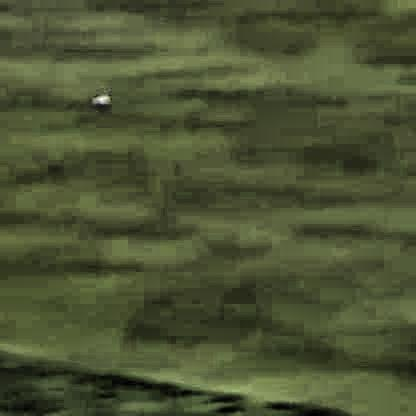golfball: (90, 93, 108, 106)
